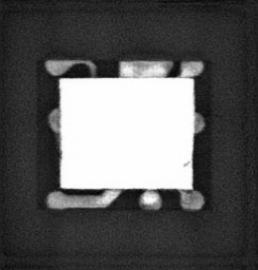DIE_INK: (180, 158, 191, 169)
